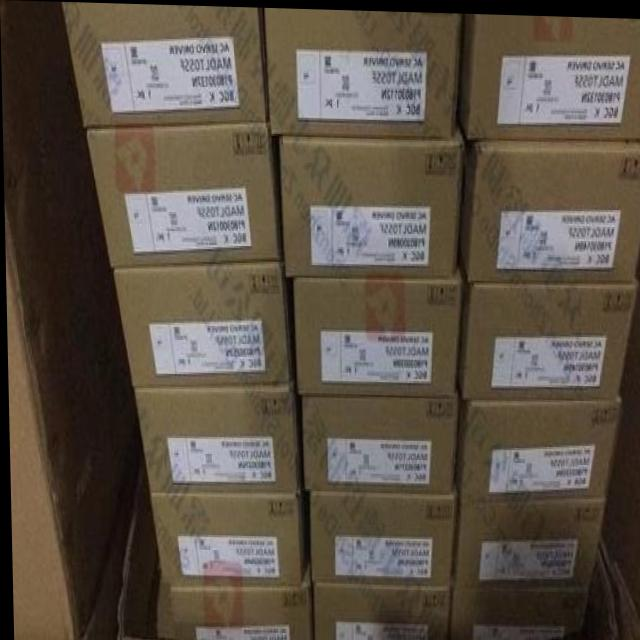box: (84, 120, 283, 267), (280, 118, 466, 274), (456, 137, 640, 282), (293, 245, 467, 395), (62, 2, 268, 125), (264, 8, 461, 134), (455, 12, 640, 139), (112, 260, 296, 386), (458, 274, 637, 397), (451, 390, 619, 501), (133, 381, 302, 491), (300, 389, 458, 491), (147, 488, 309, 586), (307, 480, 454, 582), (448, 494, 604, 586), (169, 561, 311, 640), (310, 582, 447, 640), (447, 585, 587, 640)
